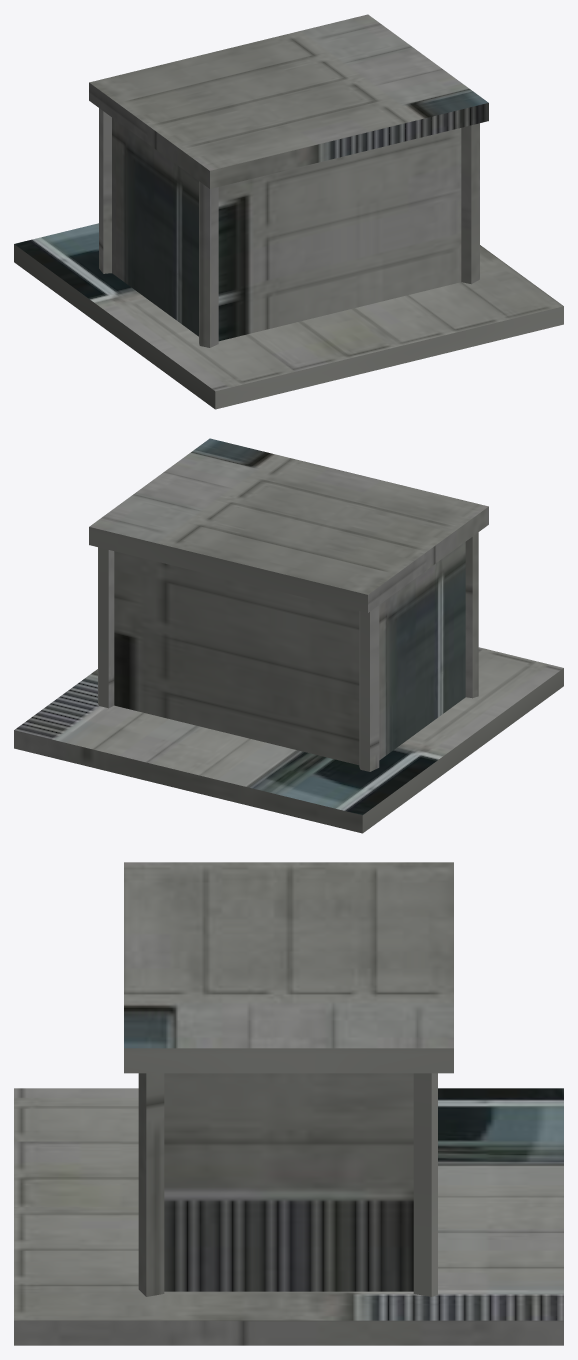
3 views of the same model, one above another, from view 1: azimuth 30°, elevation 25°; view 2: azimuth 150°, elevation 25°; view 3: azimuth 270°, elevation 25° (orthographic). The views are drawn at different scales.
Visible parts, largest first — view 1: Cube_001; view 2: Cube_001; view 3: Cube_001.
Boxes of the visible parts, <box> form: Cube_001: <box>14,14,563,409</box>; Cube_001: <box>14,438,563,833</box>; Cube_001: <box>14,862,563,1345</box>.
Bounding box in the file's own units: 8 × 8 × 4.4.
Materials: 1 (1 with a texture image).
